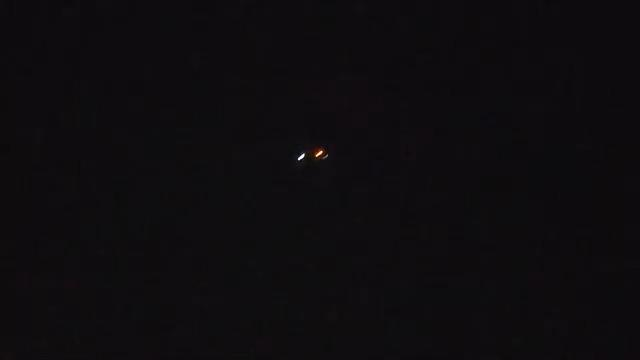Plane: (276, 142, 350, 168)
